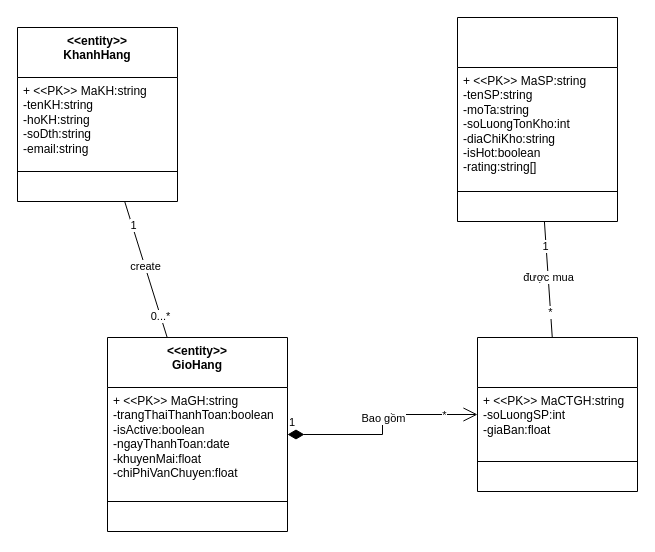
This 655x552 diagram has some shape labels left out. The box of each missing label's shape, as (x1, y1, x2, y2) in pixels:
<<entity>> ChiTietGioHang: (476, 336, 638, 492)
<<entity>> SanPham: (456, 16, 618, 222)
